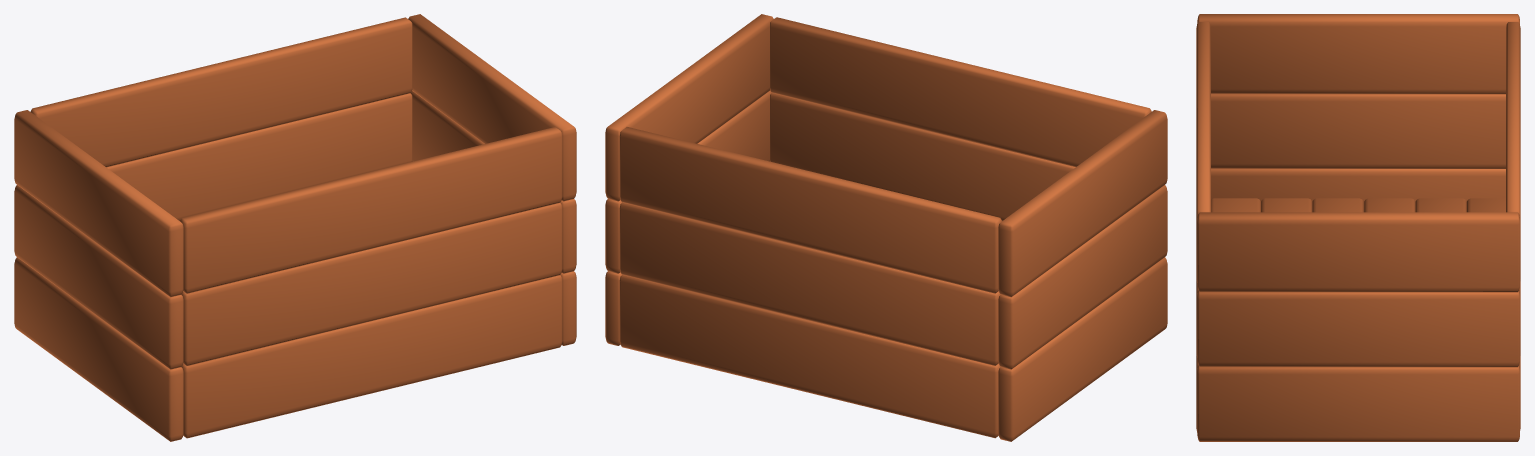
Rendered from crate.fbx.
The picture shows the model from 3 angles, left to right: view 1: azimuth 30°, elevation 25°; view 2: azimuth 150°, elevation 25°; view 3: azimuth 270°, elevation 25°; orthographic projection. The views are drawn at different scales.
Parts seen in each view (by area): view 1: granary.002; view 2: granary.002; view 3: granary.002.
Boxes of the visible parts, box(x1,y1,x2,y2) form: granary.002: box(14, 14, 576, 441); granary.002: box(605, 14, 1167, 441); granary.002: box(1196, 14, 1520, 441).
Bounding box in the file's own units: 164 × 83.15 × 109.
